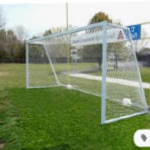goals: (24, 18, 150, 126)
